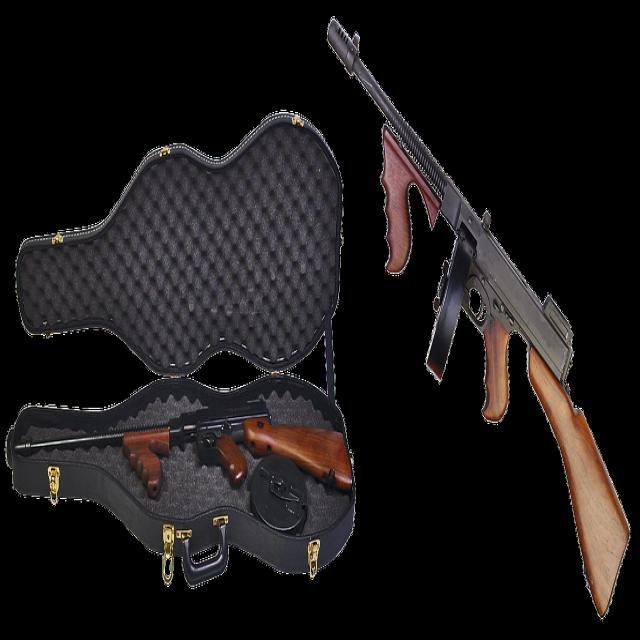Gun: (328, 19, 630, 602), (15, 400, 352, 497)
